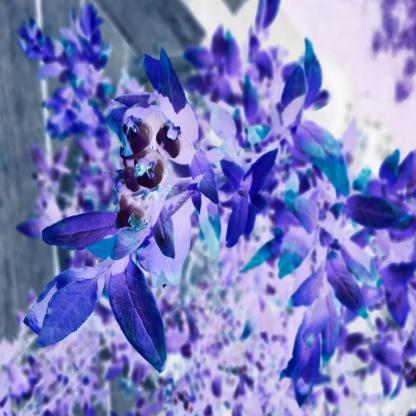blueberry leaf: (108, 254, 173, 379), (23, 273, 100, 358), (292, 114, 369, 194), (145, 47, 200, 139), (322, 256, 385, 327), (338, 188, 412, 234), (41, 211, 117, 252), (186, 146, 222, 221), (150, 197, 184, 261), (244, 140, 277, 204)
